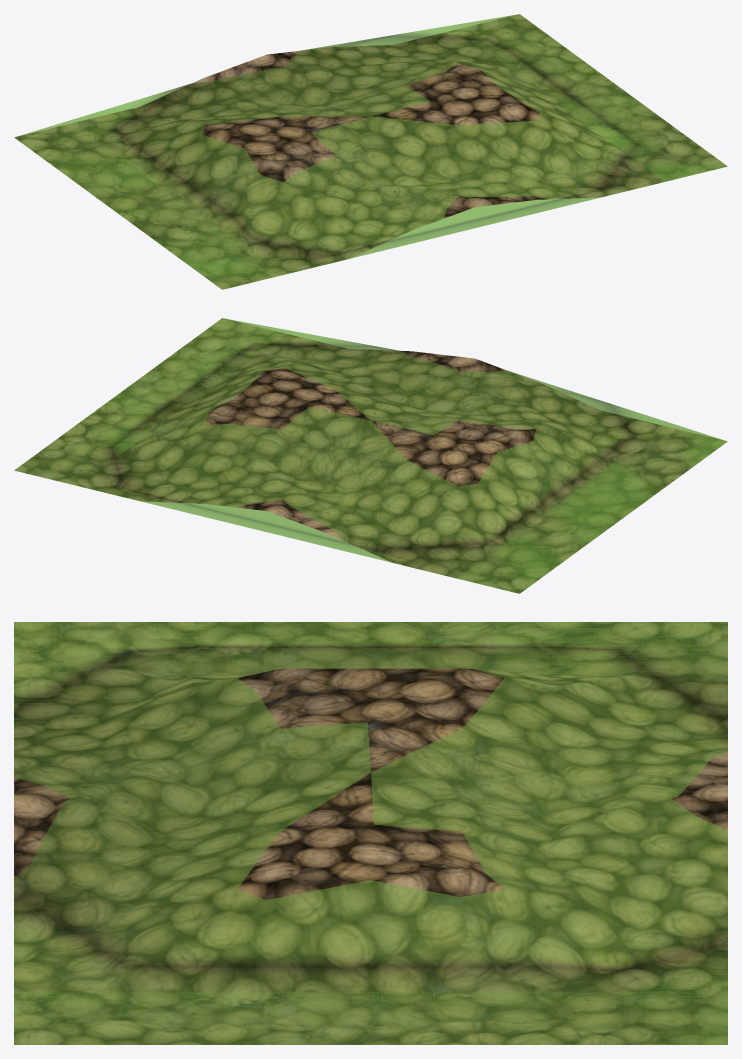
The model's file is pg_Nuts_02.fbx.
The picture shows the model from 3 angles, top to bottom: view 1: azimuth 30°, elevation 25°; view 2: azimuth 150°, elevation 25°; view 3: azimuth 270°, elevation 25°; orthographic projection. The views are drawn at different scales.
Visible parts, largest first — view 1: pg_Nuts_02_a_LOD0, pg_Nuts_02_a_col; view 2: pg_Nuts_02_a_LOD0, pg_Nuts_02_a_col; view 3: pg_Nuts_02_a_LOD0, pg_Nuts_02_a_col.
Part boxes in pixels (x1,y1,x2,y2): pg_Nuts_02_a_LOD0: (14,14,726,289); pg_Nuts_02_a_col: (14,14,727,289); pg_Nuts_02_a_LOD0: (14,318,726,593); pg_Nuts_02_a_col: (14,318,727,593); pg_Nuts_02_a_LOD0: (14,622,727,1044); pg_Nuts_02_a_col: (14,622,727,1044).
Size of what is drawn, in the model's own units: 40.97 by 2.75 by 29.23.
